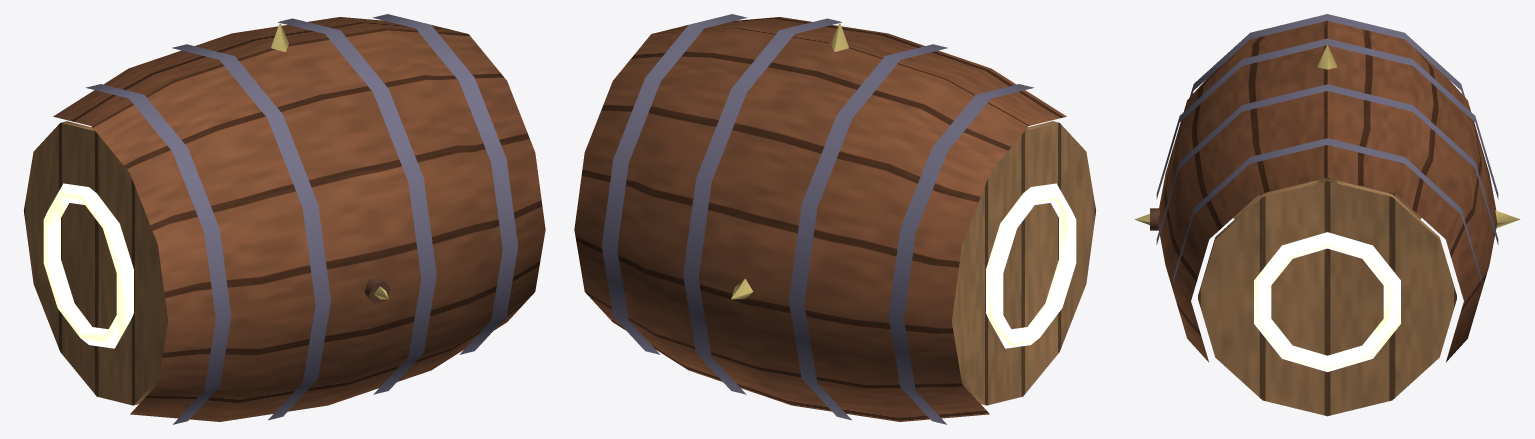
The model's file is barril-rolante.glb.
3 views of the same model, side by side, from view 1: azimuth 30°, elevation 25°; view 2: azimuth 150°, elevation 25°; view 3: azimuth 270°, elevation 25° (orthographic). The views are drawn at different scales.
Parts seen in each view (by area): view 1: barril-rolante; view 2: barril-rolante; view 3: barril-rolante.
Part boxes in pixels (box(x1,y1,x2,y2)): barril-rolante: box(23, 14, 545, 424); barril-rolante: box(574, 14, 1096, 424); barril-rolante: box(1134, 14, 1520, 416).
Size of the model in its own units: 1.8 by 1.7 by 1.7.
Materials: 4 (1 with a texture image).
